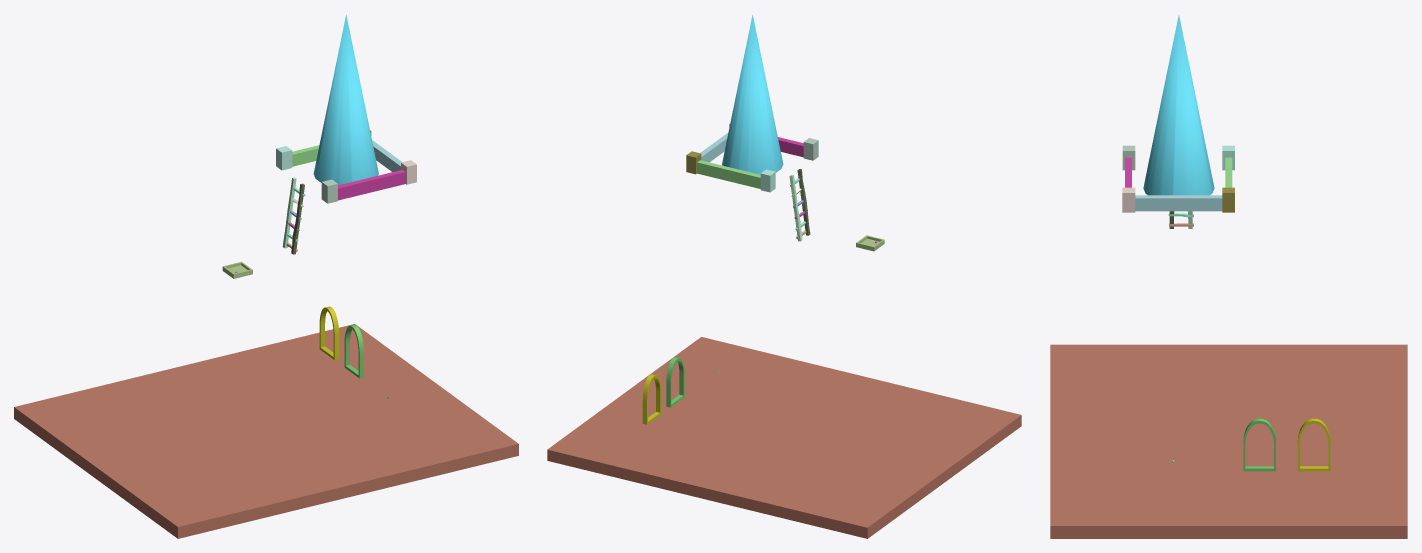
3 renders of one model, left to right at view 1: azimuth 30°, elevation 25°; view 2: azimuth 150°, elevation 25°; view 3: azimuth 270°, elevation 25°, orthographic. The views are drawn at different scales.
Parts seen in each view (by area): view 1: Object_16, Object_5.293, Object_45, Object_41, Object_36; view 2: Object_16, Object_5.293, Object_47, Object_36, Object_41; view 3: Object_16, Object_5.293, Object_43, Object_41, Object_36.
Boxes of the visible parts, x1=… form: Object_16: x1=14, y1=324, x2=518, y2=538; Object_5.293: x1=313, y1=15, x2=378, y2=185; Object_45: x1=338, y1=169, x2=405, y2=200; Object_41: x1=319, y1=306, x2=339, y2=360; Object_36: x1=344, y1=324, x2=363, y2=378; Object_16: x1=547, y1=337, x2=1021, y2=538; Object_5.293: x1=722, y1=15, x2=783, y2=174; Object_47: x1=697, y1=160, x2=760, y2=188; Object_36: x1=666, y1=357, x2=684, y2=407; Object_41: x1=642, y1=374, x2=661, y2=424; Object_16: x1=1050, y1=344, x2=1407, y2=538; Object_5.293: x1=1143, y1=15, x2=1214, y2=195; Object_43: x1=1135, y1=195, x2=1222, y2=211; Object_41: x1=1297, y1=418, x2=1330, y2=471; Object_36: x1=1243, y1=418, x2=1275, y2=471.
Bounding box in the file's own units: 0.8368 × 1 × 0.6974.
